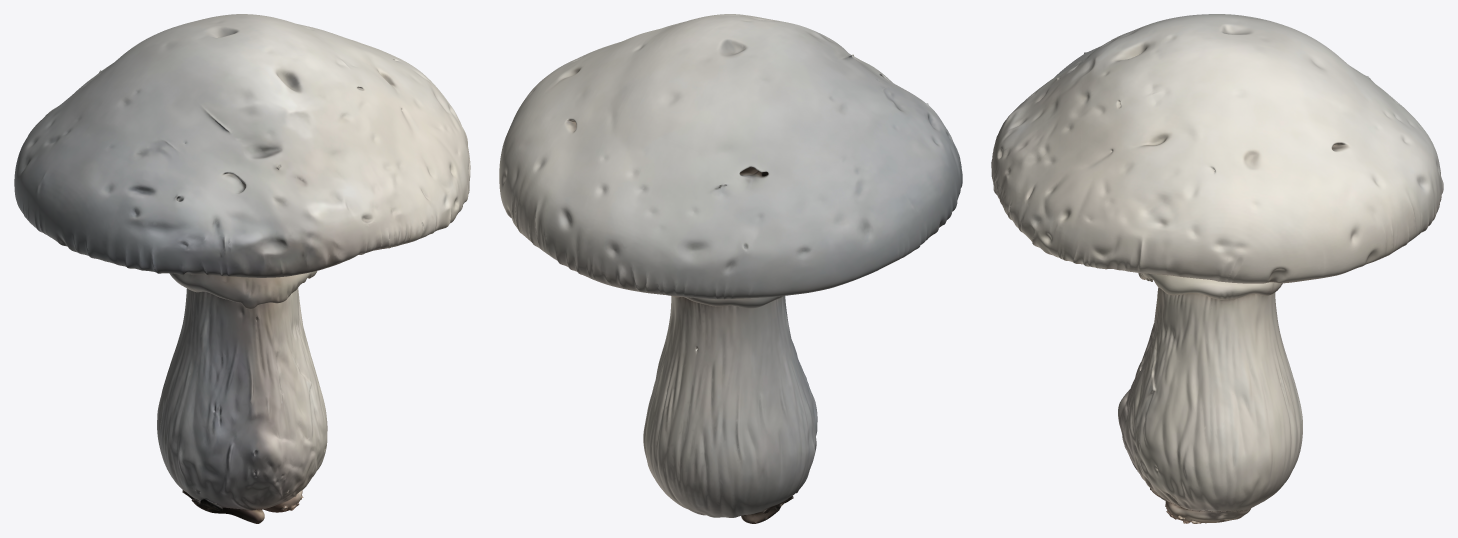
Rendered from singleMushroom2.glb.
3 renders of one model, left to right at view 1: azimuth 30°, elevation 25°; view 2: azimuth 150°, elevation 25°; view 3: azimuth 270°, elevation 25°, orthographic.
Parts seen in each view (by area): view 1: tripo_node_0c12185c-0a1c-44c9-ac98-1497830afb0a; view 2: tripo_node_0c12185c-0a1c-44c9-ac98-1497830afb0a; view 3: tripo_node_0c12185c-0a1c-44c9-ac98-1497830afb0a.
Boxes of the visible parts, <box> form: tripo_node_0c12185c-0a1c-44c9-ac98-1497830afb0a: <box>14,14,470,523</box>; tripo_node_0c12185c-0a1c-44c9-ac98-1497830afb0a: <box>499,14,962,523</box>; tripo_node_0c12185c-0a1c-44c9-ac98-1497830afb0a: <box>991,14,1443,523</box>.
Bounding box in the file's own units: 0.8661 × 0.9798 × 0.8481.
Materials: 1 (1 with a texture image).
